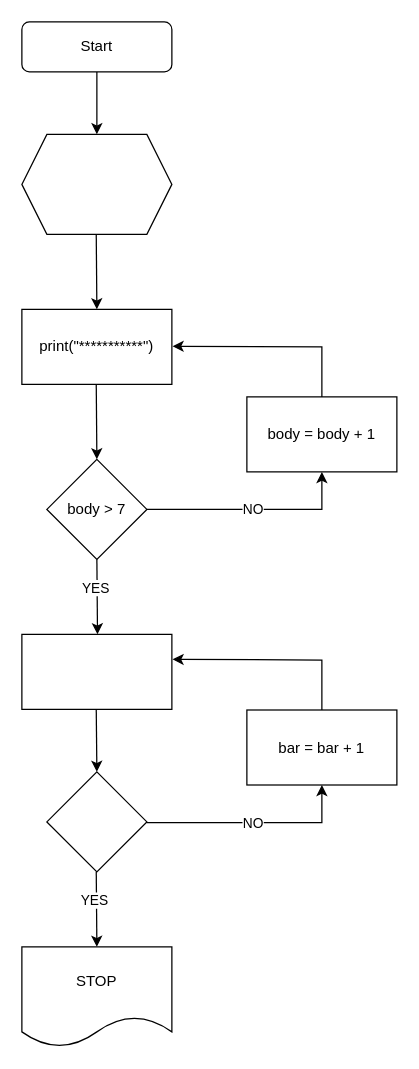
Some shapes in this 419 by 1069 pixel diagram are drawn without their labels. The shapes that lost their labels are listed below. From the top down, each one's centre as x and y in pixels, then its label:
point 96,183: body = 1 bar = 1
point 96,671: print(" | | ")
point 96,821: bar > 3
